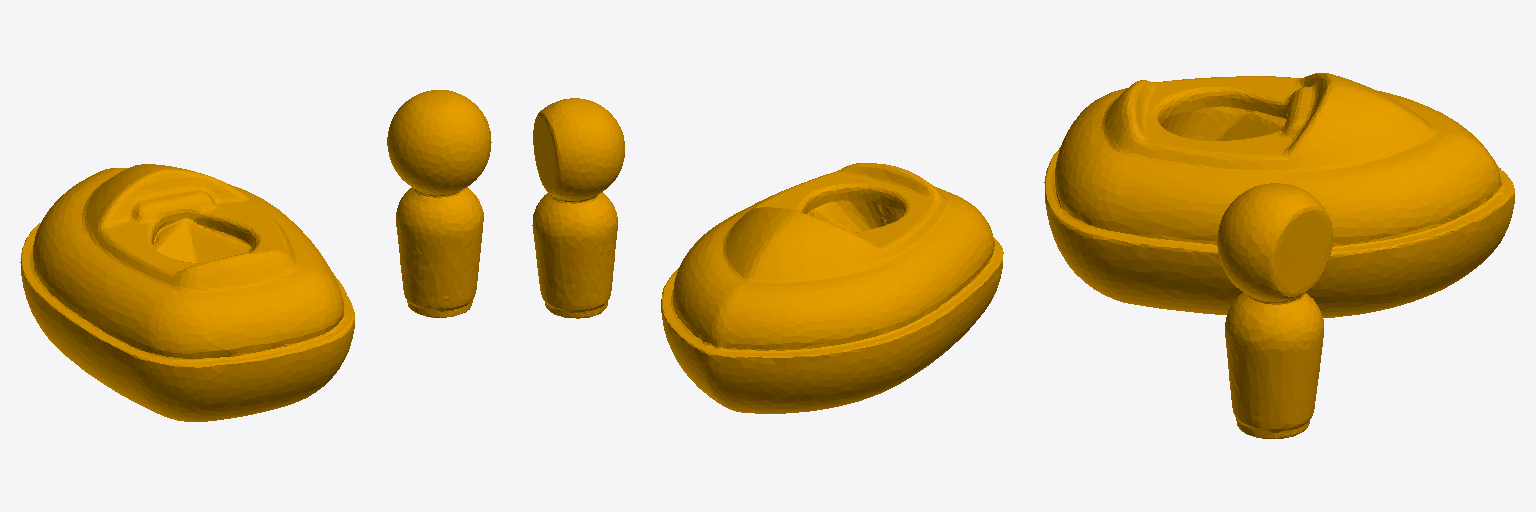
The robot description file, URDF, robot "SPEED_BOAT":
<?xml version="1.0" ?>
<robot name="SPEED_BOAT">
  <link name="link_0">
    <inertial>
      <origin xyz="0 0 0" rpy="0 0 0"/>
      <mass value="1.0"/>
      <inertia ixx="0.1" ixy="0.0" ixz="0.0" iyy="0.1" iyz="0.0" izz="0.1"/>
    </inertial>
    <visual name="visual">
      <origin xyz="0 0 0" rpy="0 0 0"/>
      <geometry>
        <mesh filename="meshes/model.obj"/>
      </geometry>
    </visual>
    <collision name="collision_0">
      <origin xyz="0 0 0" rpy="0 0 0"/>
      <geometry>
        <mesh filename="meshes/model.obj"/>
      </geometry>
    </collision>
  </link>
</robot>

--- Render facts (derived) ---
Views: 3 orthographic renders of the robot side by side, from view 1: azimuth 30°, elevation 25°; view 2: azimuth 150°, elevation 25°; view 3: azimuth 270°, elevation 25°.
Robot: SPEED_BOAT — 1 links, 0 joints (none); root link link_0; default pose: every joint at zero.
Links seen in each view (by area): view 1: link_0; view 2: link_0; view 3: link_0.
Boxes of the visible links, box(x1,y1,x2,y2) form: link_0: box(20, 90, 491, 421); link_0: box(532, 98, 1003, 413); link_0: box(1044, 73, 1514, 438).
Size in the robot's own frame: 0.1425 by 0.1198 by 0.0662 metres.
1 mesh visuals loaded from 1 distinct referenced files (1 OBJ).